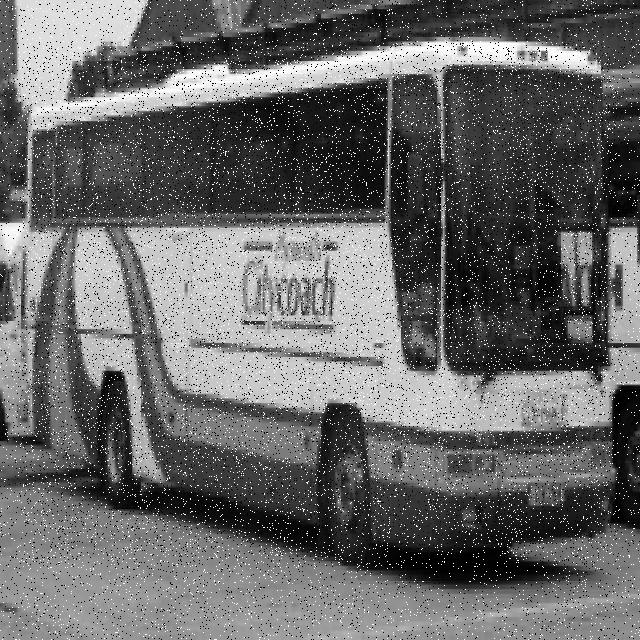Bus: (22, 42, 617, 567)
